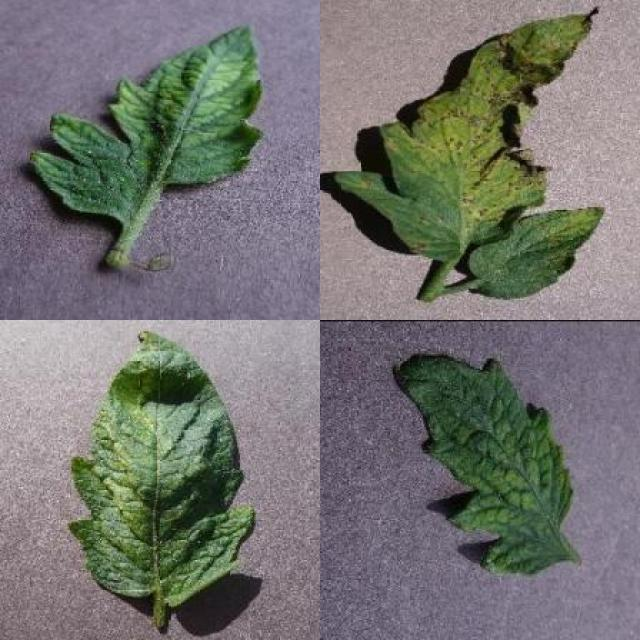Mosaic Virus: (32, 20, 265, 220), (395, 354, 575, 576)
Septoria: (334, 6, 606, 261)
Spider Mites: (68, 329, 253, 607)
